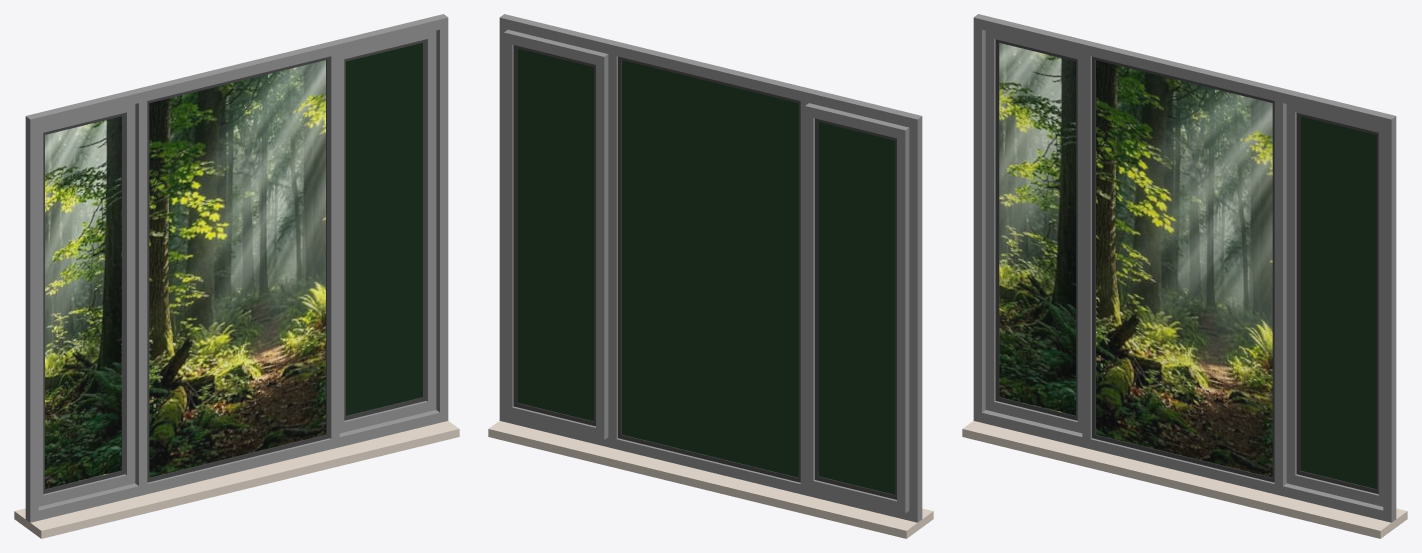
File: window.glb
3 renders of one model, left to right at view 1: azimuth 30°, elevation 25°; view 2: azimuth 150°, elevation 25°; view 3: azimuth 330°, elevation 25°, orthographic.
Visible parts, largest first — view 1: Window_Glass_0, Window_PVC_0, Window_Plastic_0, Window_Marble_0; view 2: Window_Glass_0, Window_PVC_0, Window_Plastic_0, Window_Marble_0; view 3: Window_Glass_0, Window_PVC_0, Window_Plastic_0, Window_Marble_0.
Boxes of the visible parts, x1,y1,x2,y2 form: Window_Glass_0: (45, 43, 422, 489); Window_PVC_0: (25, 14, 448, 522); Window_Plastic_0: (43, 39, 426, 494); Window_Marble_0: (14, 421, 459, 538); Window_Glass_0: (517, 48, 895, 494); Window_PVC_0: (499, 14, 922, 522); Window_Plastic_0: (513, 45, 896, 499); Window_Marble_0: (488, 421, 933, 538); Window_Glass_0: (999, 43, 1376, 489); Window_PVC_0: (973, 14, 1396, 522); Window_Plastic_0: (995, 39, 1378, 494); Window_Marble_0: (962, 421, 1407, 538).
Bounding box in the file's own units: 3.72 × 3.5 × 0.417.
4 materials, 2 textured.
